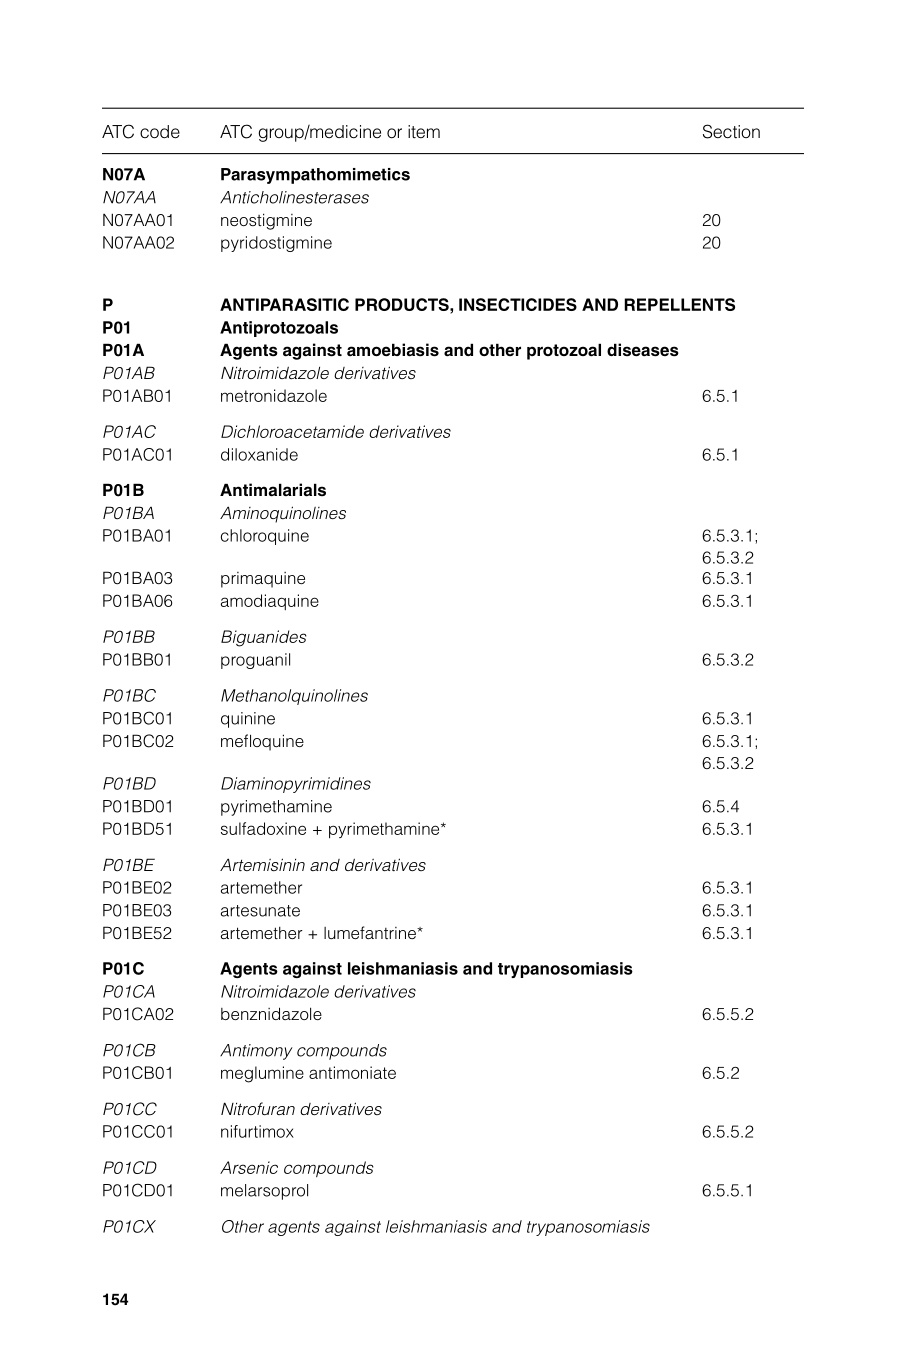partial_lined: (101, 106, 805, 1243)
